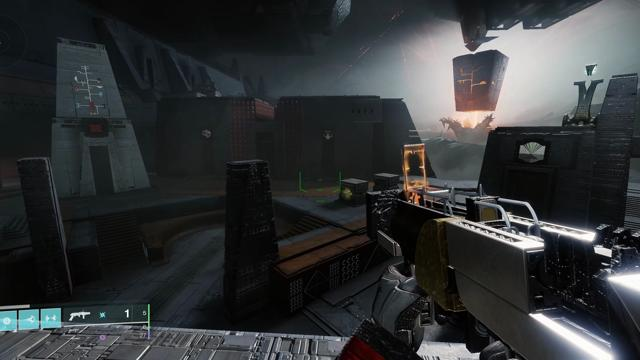brain: (201, 129, 212, 139)
commune: (519, 142, 546, 163)
drink: (322, 129, 334, 140)
stop: (86, 121, 105, 136)
